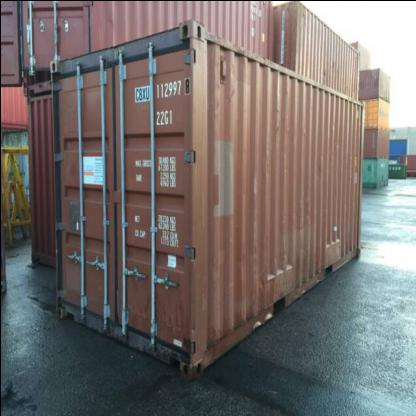Damage: (154, 288, 186, 348), (256, 250, 308, 282), (314, 226, 346, 247), (270, 83, 282, 137)
